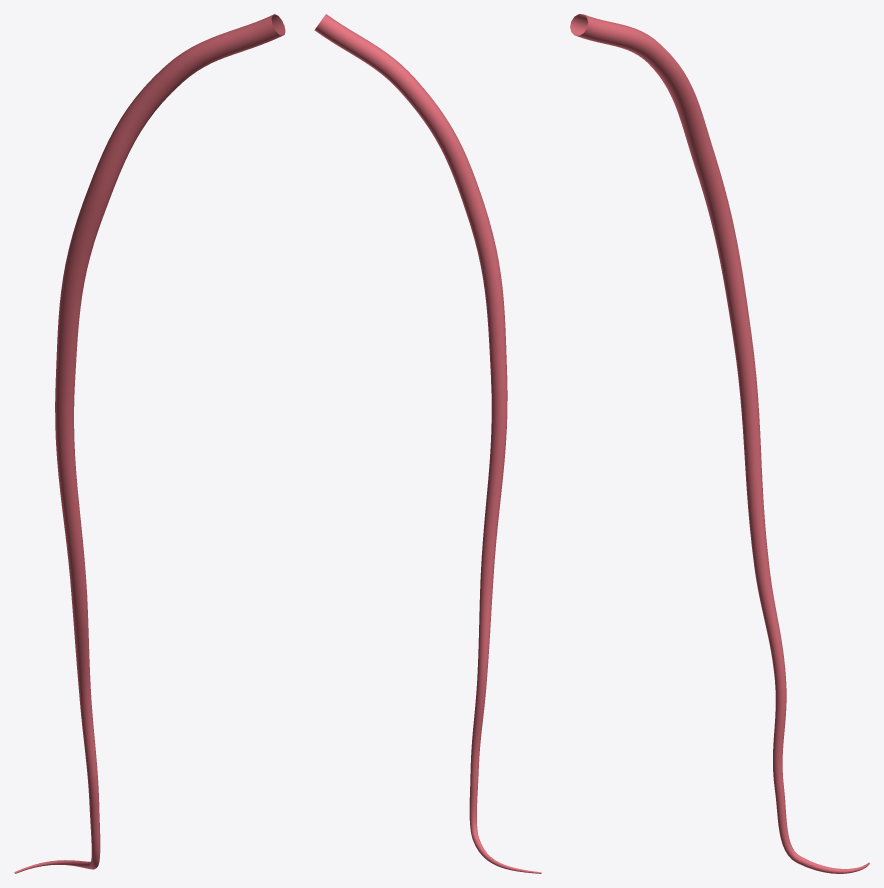
The picture shows the model from 3 angles, left to right: view 1: azimuth 30°, elevation 25°; view 2: azimuth 210°, elevation 25°; view 3: azimuth 270°, elevation 25°; orthographic projection. The views are drawn at different scales.
Visible parts, largest first — view 1: ZA_5ebca8f9afb74a40; view 2: ZA_5ebca8f9afb74a40; view 3: ZA_5ebca8f9afb74a40.
Boxes of the visible parts, left/top/right/bottom form: ZA_5ebca8f9afb74a40: left=14, top=14, right=285, bottom=873; ZA_5ebca8f9afb74a40: left=314, top=14, right=541, bottom=873; ZA_5ebca8f9afb74a40: left=570, top=14, right=869, bottom=873.
Size of the model in its own units: 0.0425 by 0.2598 by 0.0784.
